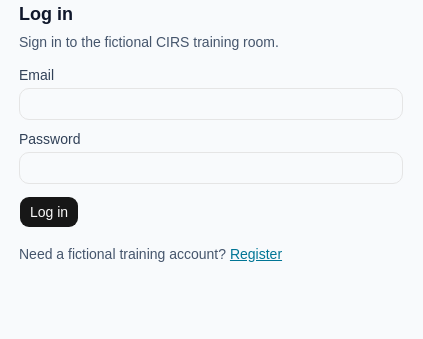
LoginPage › shows validation messages and sends no request for an empty form
This screenshot has width=423, height=339.
What coordinates should you click on to do the following:
click the button "Log in"
I would click on:
 (49, 212)
Its box is [19,196,79,228].
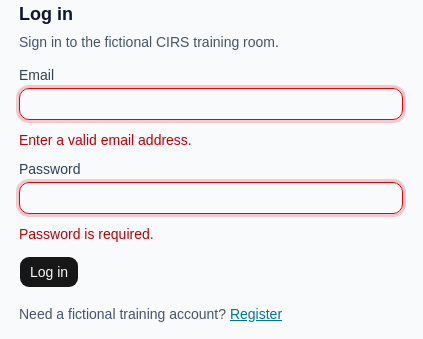
Check: the text "Enter a valid email address." is shown, box [19,132,192,148]
Check: the text "Password is required." is shown, box [19,226,154,242]
